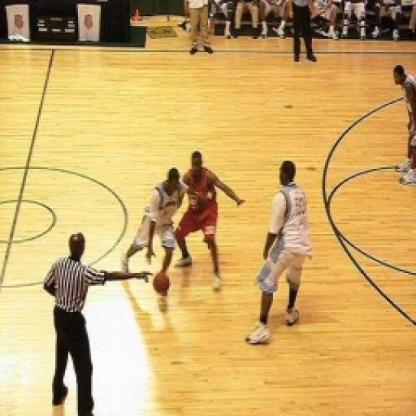basketball: (152, 271, 168, 297)
